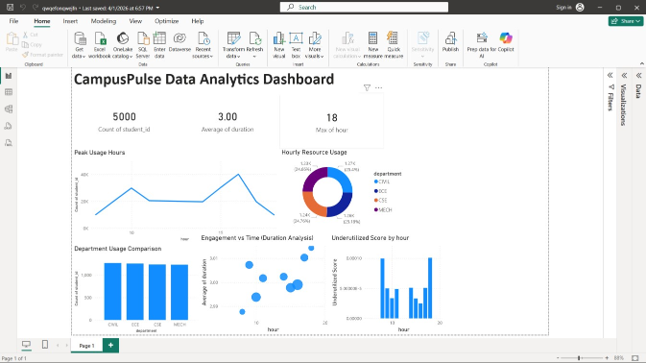

Layout of this report page (visuals, bound fields, positions):
{"tool":"powerbi","page":{"name":"Page 1","canvas":[1280,720],"ordinal":0},"visuals":[{"type":"lineChart","title":"Peak Usage Hours","fields":{"Category":["public fact_library.hour"],"Y":["CountNonNull(public fact_library.student_id)"]},"box":[0.9,219.8,557.3,253.8],"z":0},{"type":"clusteredColumnChart","title":"Department Usage Comparison","fields":{"Category":["public dim_students.department"],"Y":["CountNonNull(public dim_students.student_id)"]},"box":[1.2,477.9,341.9,241.9],"z":1000},{"type":"donutChart","title":"Hourly Resource Usage","fields":{"Category":["public dim_students.department"],"Y":["CountNonNull(public dim_students.student_id)"]},"box":[558.2,218,349.6,216.5],"z":3000},{"type":"scatterChart","title":"Engagement vs Time (Duration Analysis)","fields":{"X":["public fact_library.hour"],"Y":["Avg(public fact_library.duration)"],"Size":["CountNonNull(public fact_library.student_id)"]},"box":[343,448.8,350,270.9],"z":4000},{"type":"clusteredColumnChart","fields":{"Category":["public fact_library.hour"],"Y":["public dim_students.Underutilized Score"]},"box":[693,448.8,308.1,270.9],"z":5000},{"type":"card","fields":{"Values":["CountNonNull(public dim_students.student_id)"]},"box":[0.9,66.8,278.7,150.9],"z":6000},{"type":"card","fields":{"Values":["Avg(public fact_library.duration)"]},"box":[279.6,66.8,278.7,150.9],"z":7000},{"type":"card","fields":{"Values":["Max(public fact_library.hour)"]},"box":[558.2,68.6,280.4,150.9],"z":8000},{"type":"textbox","box":[0,0,770.9,74.4],"z":8001}]}

Visuals, with their boxes on the page's 1280x720 design canvas (x1, y1, x2, y2). These are canvas units, not pixel positions in the 646x363 screenshot, which may show the page scaled, cropped or inside an application window:
"Peak Usage Hours" lineChart: <box>1,220,558,474</box>
"Department Usage Comparison" clusteredColumnChart: <box>1,478,343,720</box>
"Hourly Resource Usage" donutChart: <box>558,218,908,434</box>
"Engagement vs Time (Duration Analysis)" scatterChart: <box>343,449,693,720</box>
clusteredColumnChart - public fact_library.hour x public dim_students.Underutilized Score: <box>693,449,1001,720</box>
card - CountNonNull(public dim_students.student_id): <box>1,67,280,218</box>
card - Avg(public fact_library.duration): <box>280,67,558,218</box>
card - Max(public fact_library.hour): <box>558,69,839,220</box>
textbox: <box>0,0,771,74</box>
